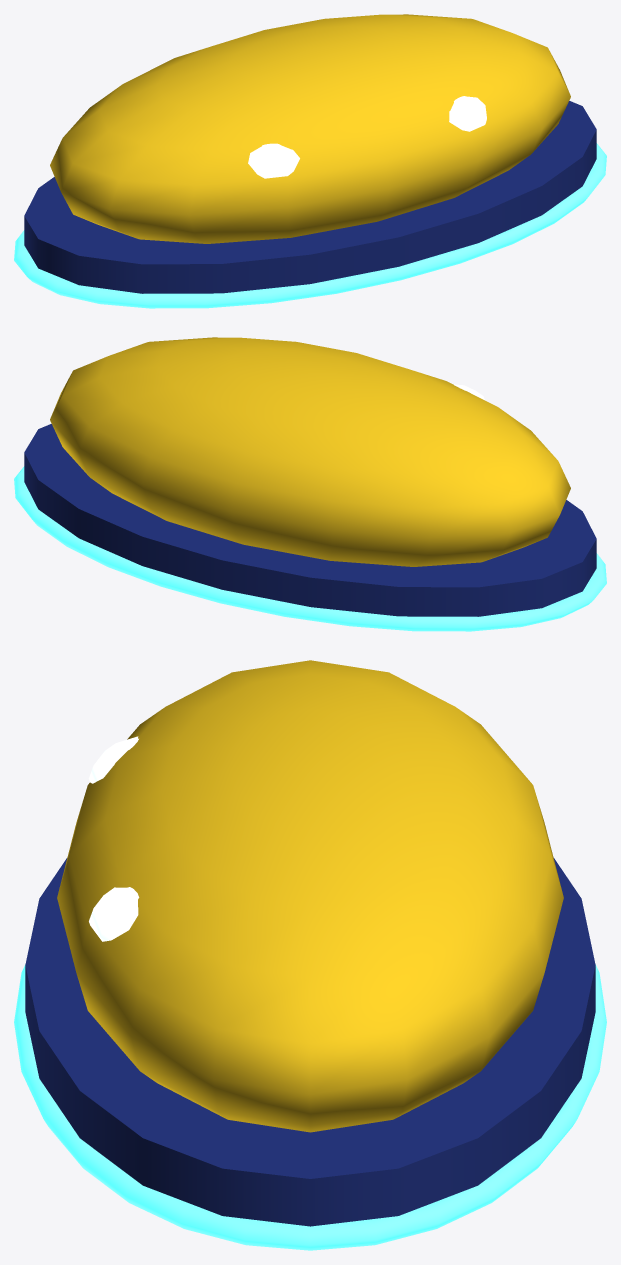
Rendered from hover_ship.glb.
3 renders of one model, top to bottom at view 1: azimuth 30°, elevation 25°; view 2: azimuth 150°, elevation 25°; view 3: azimuth 270°, elevation 25°, orthographic. The views are drawn at different scales.
Parts seen in each view (by area): view 1: hover_ship; view 2: hover_ship; view 3: hover_ship.
Boxes of the visible parts, x1,y1,x2,y2 form: hover_ship: (14, 14, 606, 308); hover_ship: (14, 337, 606, 631); hover_ship: (14, 660, 606, 1250).
Size of the model in its own units: 4.99 by 1.4 by 2.81.
